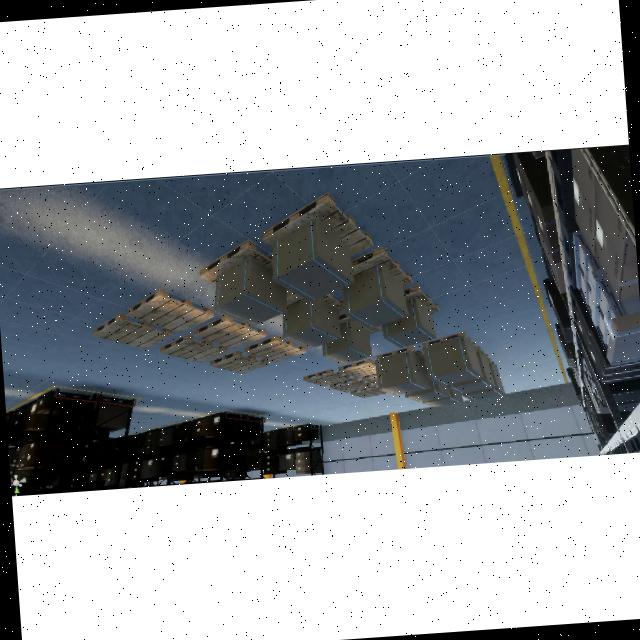wooden_pallet: (262, 193, 373, 255), (125, 289, 215, 334), (198, 239, 272, 285), (92, 313, 173, 349), (349, 245, 413, 287), (193, 315, 266, 349), (159, 334, 227, 363), (244, 334, 307, 363), (209, 350, 267, 374), (404, 284, 440, 316), (302, 368, 349, 387), (421, 332, 476, 348), (375, 344, 424, 361), (337, 358, 376, 379), (328, 377, 371, 393), (349, 385, 388, 398), (362, 373, 378, 386)
